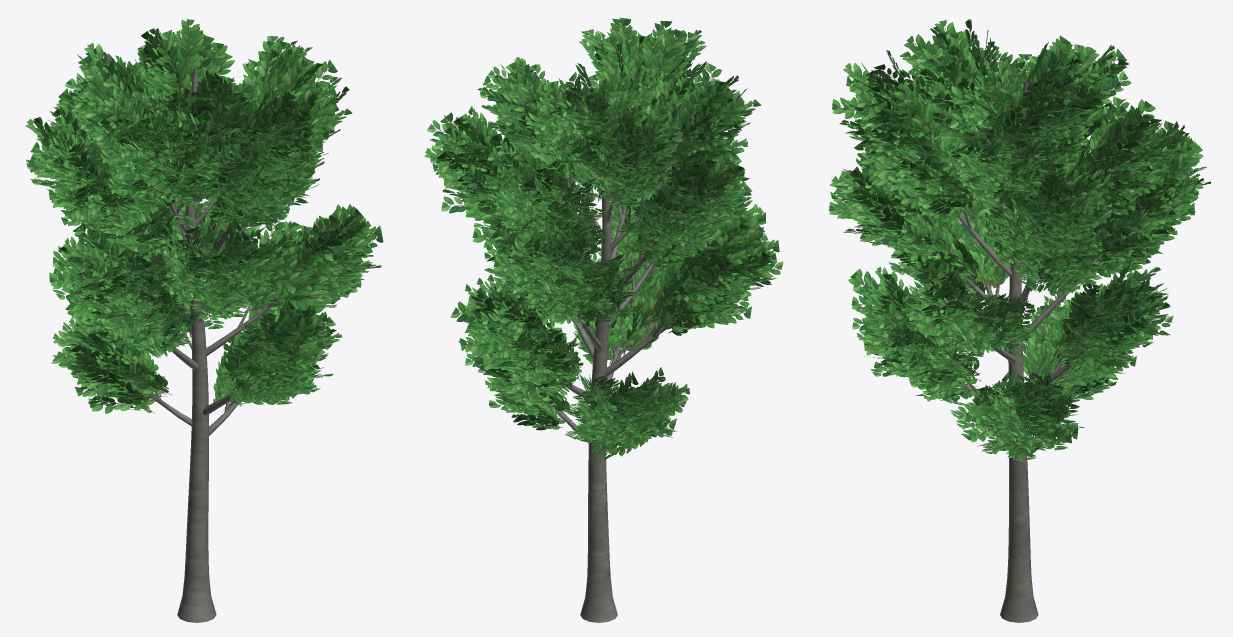
Rendered from albero_a.glb.
3 renders of one model, left to right at view 1: azimuth 30°, elevation 25°; view 2: azimuth 150°, elevation 25°; view 3: azimuth 270°, elevation 25°, orthographic. The views are drawn at different scales.
Visible parts, largest first — view 1: foglie, corteccia; view 2: foglie, corteccia; view 3: foglie, corteccia.
Boxes of the visible parts, box(x1,y1,x2,y2) form: foglie: box(25, 19, 383, 413); corteccia: box(147, 67, 282, 622); foglie: box(424, 17, 783, 459); corteccia: box(526, 127, 668, 622); foglie: box(829, 19, 1211, 461); corteccia: box(916, 80, 1102, 622).
Bounding box in the file's own units: 11.37 × 19.03 × 11.9.
Materials: 2 (2 with a texture image).
